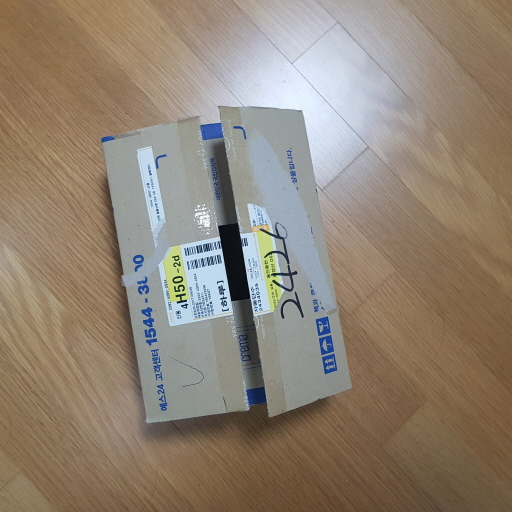Paper_0: (94, 104, 364, 429)
